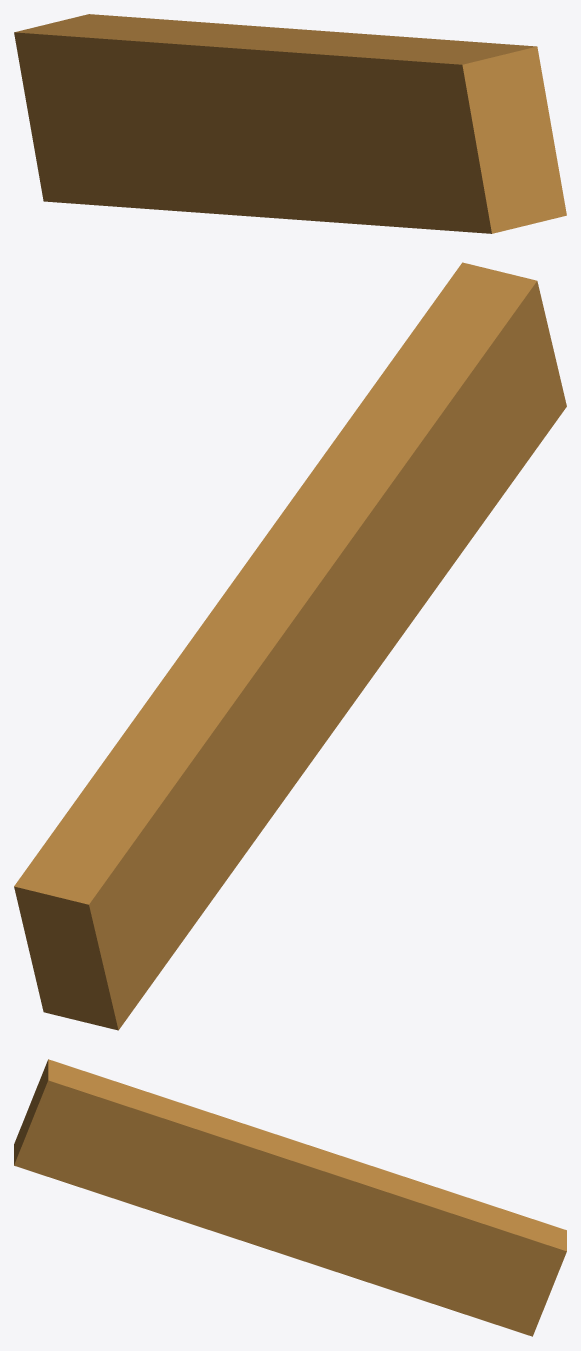
The picture shows the model from 3 angles, top to bottom: view 1: azimuth 30°, elevation 25°; view 2: azimuth 150°, elevation 25°; view 3: azimuth 270°, elevation 25°; orthographic projection. The views are drawn at different scales.
Parts seen in each view (by area): view 1: L1-3-S5-330-M02; view 2: L1-3-S5-330-M02; view 3: L1-3-S5-330-M02.
Boxes of the visible parts, x1,y1,x2,y2 form: L1-3-S5-330-M02: (14,14,566,233); L1-3-S5-330-M02: (14,262,566,1030); L1-3-S5-330-M02: (14,1059,566,1336).
Bounding box in the file's own units: 0.045 × 0.2542 × 0.4969.
